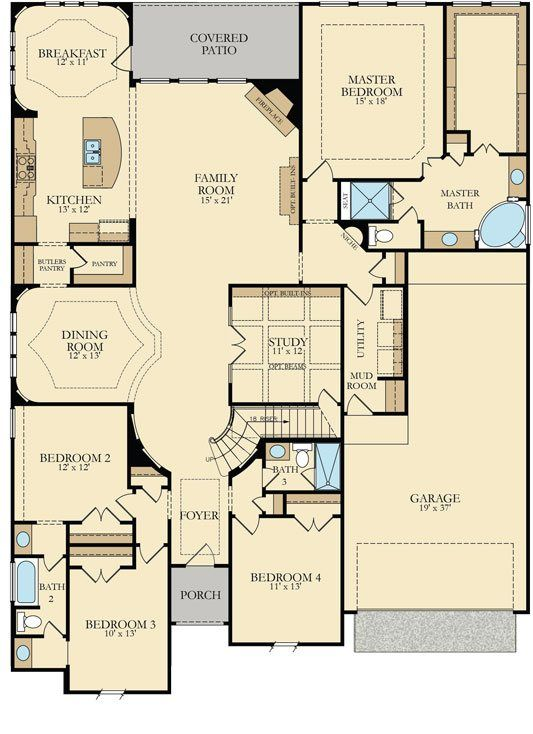door: (84, 564, 119, 589), (296, 513, 329, 539), (187, 539, 221, 564), (235, 519, 266, 545), (229, 325, 249, 363), (84, 504, 120, 523), (346, 289, 376, 310), (38, 557, 66, 578), (362, 255, 383, 283), (397, 199, 427, 218), (311, 157, 336, 178), (109, 42, 125, 73), (345, 392, 372, 410), (139, 546, 163, 566), (474, 138, 498, 157), (445, 154, 469, 173), (416, 155, 440, 174), (72, 250, 93, 271), (143, 488, 163, 507), (42, 619, 64, 636), (115, 490, 129, 516), (298, 464, 313, 488), (316, 386, 337, 402), (248, 494, 262, 512)
